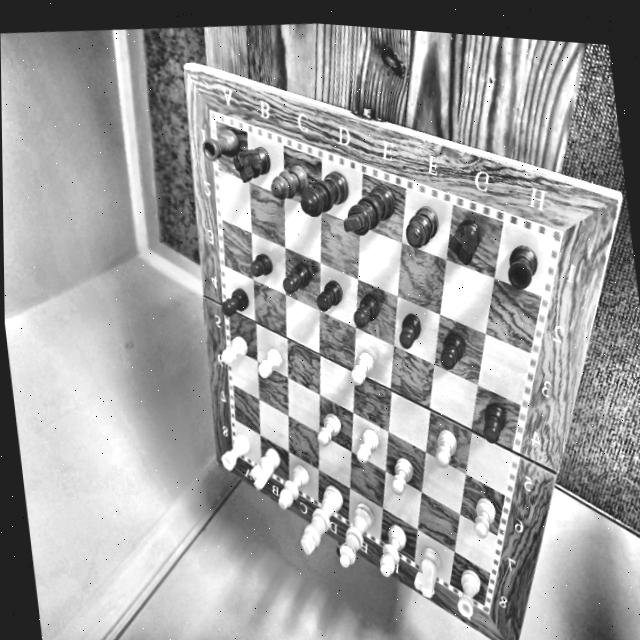black-bishop: (397, 199, 444, 254), (263, 156, 312, 204)
black-king: (335, 176, 400, 243)
black-knight: (442, 212, 489, 270), (225, 138, 274, 187)
black-pawn: (433, 322, 473, 373), (476, 396, 511, 448), (309, 273, 348, 317), (391, 304, 424, 352), (348, 285, 382, 330), (276, 258, 311, 299), (217, 283, 252, 318), (245, 246, 276, 282)
black-queen: (293, 163, 352, 223)
black-rook: (498, 236, 545, 295), (196, 121, 240, 167)
white-bishop: (372, 518, 411, 579), (271, 461, 314, 514)
white-king: (290, 480, 348, 561)
white-knight: (406, 543, 447, 599), (245, 443, 283, 490)
white-pawn: (465, 491, 500, 541), (215, 327, 252, 373), (252, 340, 289, 384), (429, 423, 463, 470), (345, 344, 380, 388), (385, 452, 417, 497), (349, 424, 383, 466), (310, 406, 344, 447)
white-queen: (331, 498, 381, 572)
white-rook: (450, 562, 488, 619), (214, 430, 253, 474)
